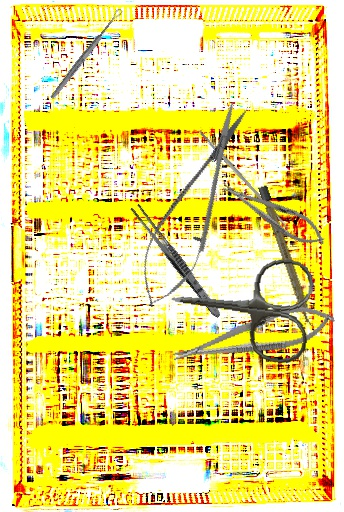Dressing Forceps: (128, 202, 225, 321)
Iris Scissors: (164, 245, 317, 367)
Micro Scissor: (124, 93, 266, 318)
Needle Holder: (168, 296, 339, 376), (217, 173, 332, 255)
Scalpel Handle: (197, 128, 291, 231), (257, 184, 316, 329)
Surgical Spoon: (49, 7, 124, 101)
